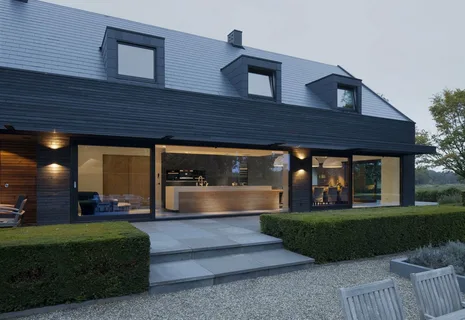private_hause: (15, 8, 415, 211)
